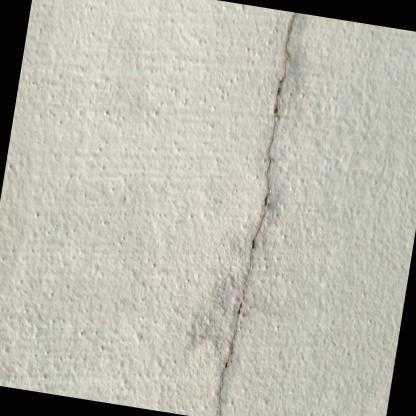crack: (217, 11, 295, 416)
